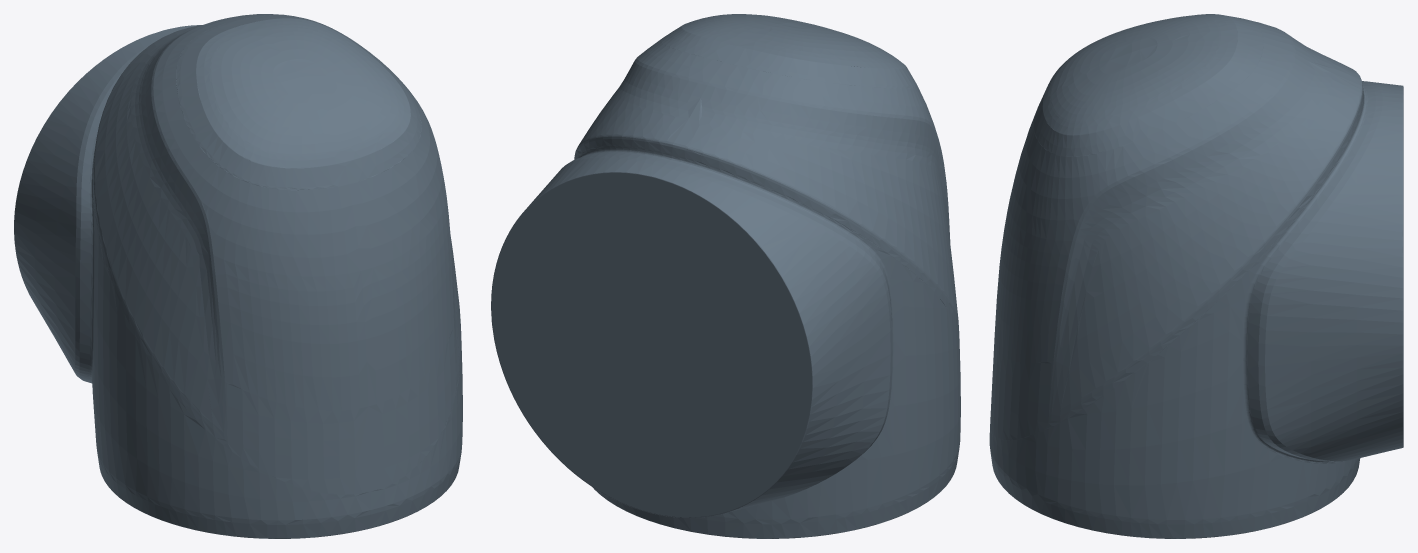
3 renders of one model, left to right at view 1: azimuth 30°, elevation 25°; view 2: azimuth 150°, elevation 25°; view 3: azimuth 270°, elevation 25°, orthographic. The views are drawn at different scales.
Visible parts, largest first — view 1: H2515_1_0; view 2: H2515_1_0; view 3: H2515_1_0.
Boxes of the visible parts, x1,y1,x2,y2 form: H2515_1_0: (14,14,462,538); H2515_1_0: (491,14,960,538); H2515_1_0: (989,14,1403,538).
Bounding box in the file's own units: 213 × 233 × 264.
